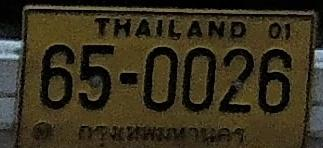0: (182, 47, 216, 112), (144, 46, 178, 111)
2: (218, 48, 254, 113)
5: (78, 44, 114, 110)
6: (258, 48, 292, 114), (40, 44, 74, 109)
BKK: (75, 120, 251, 146)
